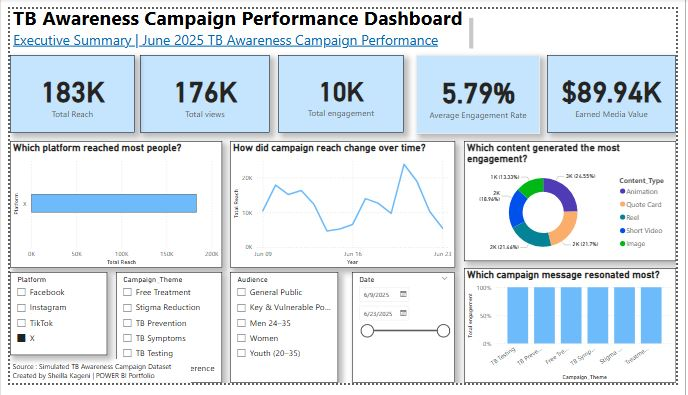

This screenshot's page, from the dashboard's own definition file:
{"tool":"powerbi","page":{"name":"Executive Summary","canvas":[1280,720],"ordinal":0},"visuals":[{"type":"card","fields":{"Values":["Fact TB_Campaign.Average Engagement Rate"]},"box":[780.8,88.5,238.5,151.9],"z":1},{"type":"card","fields":{"Values":["Fact TB_Campaign.Total views"]},"box":[250,88.5,250,150],"z":3},{"type":"card","fields":{"Values":["Fact TB_Campaign.Total engagement"]},"box":[515.4,88.5,242.3,150],"z":4},{"type":"clusteredBarChart","title":"Which platform reached  most people?","fields":{"Category":["Fact TB_Campaign.Platform"],"Y":["Fact TB_Campaign.Total Reach"]},"box":[0,253.8,407.7,244.2],"z":5},{"type":"lineChart","title":"How did campaign reach change over time?","fields":{"Y":["Fact TB_Campaign.Total Reach"],"Category":["Fact TB_Campaign.Date.Variation.Date Hierarchy.Year","Fact TB_Campaign.Date.Variation.Date Hierarchy.Month","Fact TB_Campaign.Date.Variation.Date Hierarchy.Day"]},"box":[423.1,253.8,432.7,244.2],"z":6},{"type":"hundredPercentStackedColumnChart","title":"Which campaign message resonated most?","fields":{"Category":["Fact TB_Campaign.Campaign_Theme"],"Y":["Fact TB_Campaign.Total engagement"]},"box":[872.3,498.1,407.7,221.2],"z":8},{"type":"slicer","fields":{"Values":["Fact TB_Campaign.Campaign_Theme"]},"box":[203.8,505.8,203.8,213.5],"z":10},{"type":"slicer","fields":{"Values":["Fact TB_Campaign.Audience"]},"box":[423.1,505.8,207.7,213.5],"z":11},{"type":"slicer","fields":{"Values":["Fact TB_Campaign.Date"]},"box":[657.7,505.8,198.1,213.5],"z":12},{"type":"card","fields":{"Values":["Fact TB_Campaign.Total EMV"]},"box":[1032.7,88.5,248.1,150],"z":13},{"type":"donutChart","title":"Which content generated the most engagement?","fields":{"Y":["Fact TB_Campaign.Total engagement"],"Category":["Fact TB_Campaign.Content_Type"]},"box":[873.1,253.8,407.7,230.8],"z":14},{"type":"textbox","box":[151.6,99.2,13.1,13.1],"z":15},{"type":"textbox","box":[0,0,896.2,80.8],"z":17},{"type":"card","fields":{"Values":["Fact TB_Campaign.Total Reach"]},"box":[0,88.5,240.4,150],"z":18},{"type":"textbox","box":[0,673.1,348.1,46.2],"z":19},{"type":"slicer","fields":{"Values":["Fact TB_Campaign.Platform"]},"box":[0,505.8,186.5,159.6],"z":20}]}

Visuals, with their boxes in screenshot pixels (x1, y1, x2, y2), scaled from the page's 1280x720 canvas onto the 688x395 screenshot:
card - Fact TB_Campaign.Average Engagement Rate: <region>420, 49, 548, 132</region>
card - Fact TB_Campaign.Total views: <region>134, 49, 269, 131</region>
card - Fact TB_Campaign.Total engagement: <region>277, 49, 407, 131</region>
"Which platform reached  most people?" clusteredBarChart: <region>0, 139, 219, 273</region>
"How did campaign reach change over time?" lineChart: <region>227, 139, 460, 273</region>
"Which campaign message resonated most?" hundredPercentStackedColumnChart: <region>469, 273, 687, 394</region>
slicer - Fact TB_Campaign.Campaign_Theme: <region>110, 277, 219, 394</region>
slicer - Fact TB_Campaign.Audience: <region>227, 277, 339, 394</region>
slicer - Fact TB_Campaign.Date: <region>354, 277, 460, 394</region>
card - Fact TB_Campaign.Total EMV: <region>555, 49, 687, 131</region>
"Which content generated the most engagement?" donutChart: <region>469, 139, 687, 266</region>
textbox: <region>81, 54, 89, 62</region>
textbox: <region>0, 0, 482, 44</region>
card - Fact TB_Campaign.Total Reach: <region>0, 49, 129, 131</region>
textbox: <region>0, 369, 187, 394</region>
slicer - Fact TB_Campaign.Platform: <region>0, 277, 100, 365</region>
